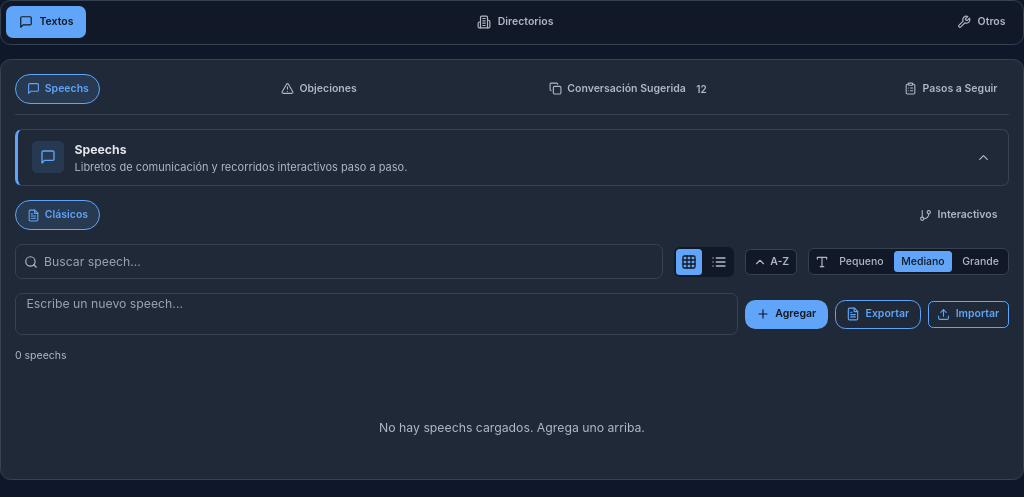
UtilesView (navegación por grupos) › cambiar de grupo muestra solo sus secciones y selecciona la primera
The width and height of the screenshot is (1024, 497).
Click the button "Directorios": x=515, y=22 [464,6,566,38]
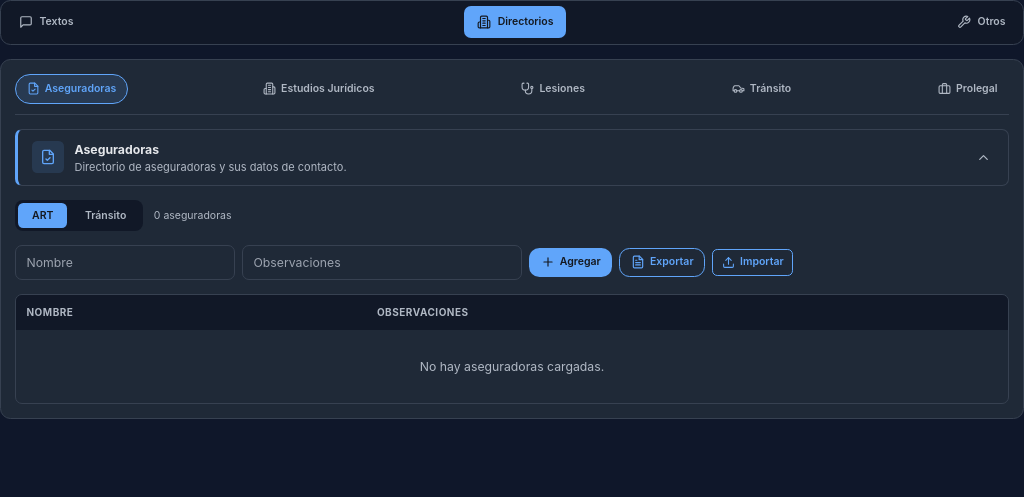
Expected: the 1st text "Aseguradoras" is shown, [45,82,116,96]
Expected: the button "Speechs" is gone
Expected: the text "Directorio de aseguradoras y sus datos de contacto." is shown, [74,160,347,174]
